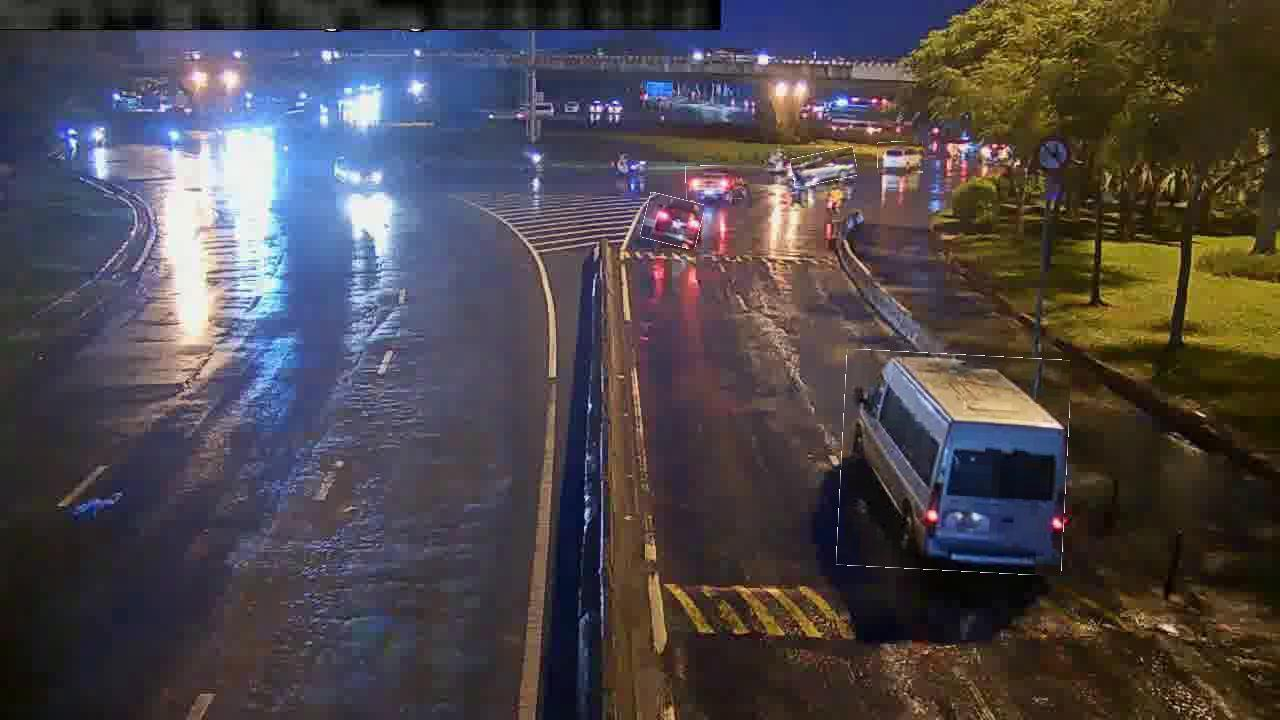14: (839, 352, 1069, 574)
container: (643, 195, 703, 247), (791, 149, 857, 184), (686, 166, 743, 200), (878, 142, 924, 174)
